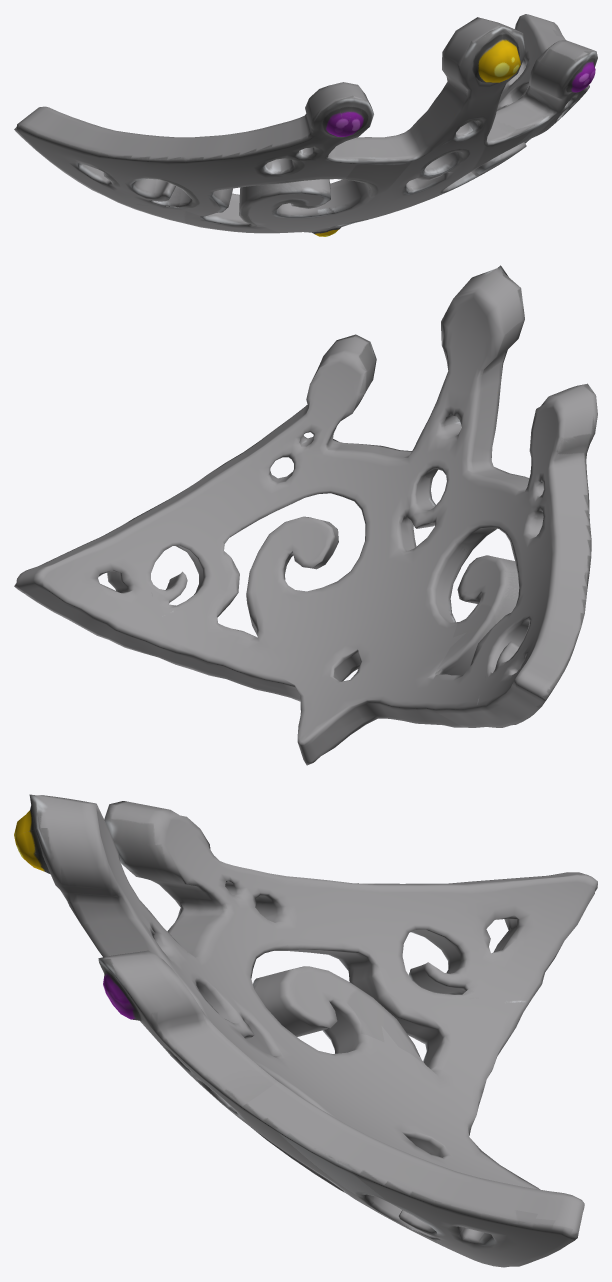
The model's file is crowntexture.obj.
3 views of the same model, one above another, from view 1: azimuth 30°, elevation 25°; view 2: azimuth 150°, elevation 25°; view 3: azimuth 270°, elevation 25° (orthographic). The views are drawn at different scales.
Visible parts, largest first — view 1: Group1; view 2: Group1; view 3: Group1.
Boxes of the visible parts, bbox=[...] form: Group1: bbox=[14, 14, 597, 236]; Group1: bbox=[14, 265, 597, 765]; Group1: bbox=[14, 794, 597, 1267].
Size of the model in its own units: 3.59 by 2.23 by 2.7.
1 material, 1 textured.
